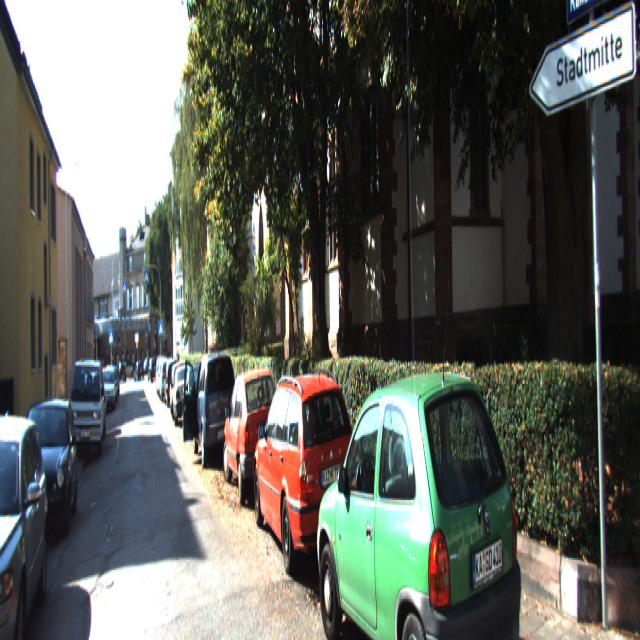Car: (313, 352, 542, 638), (249, 352, 366, 587), (0, 383, 49, 639), (216, 354, 284, 511), (14, 378, 76, 549), (190, 344, 237, 468), (65, 354, 106, 469), (167, 358, 193, 427), (101, 364, 117, 414)
